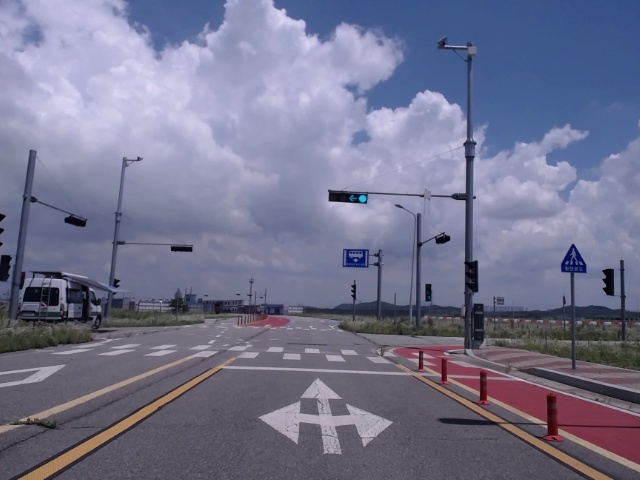all_green_4: (330, 189, 370, 206)
